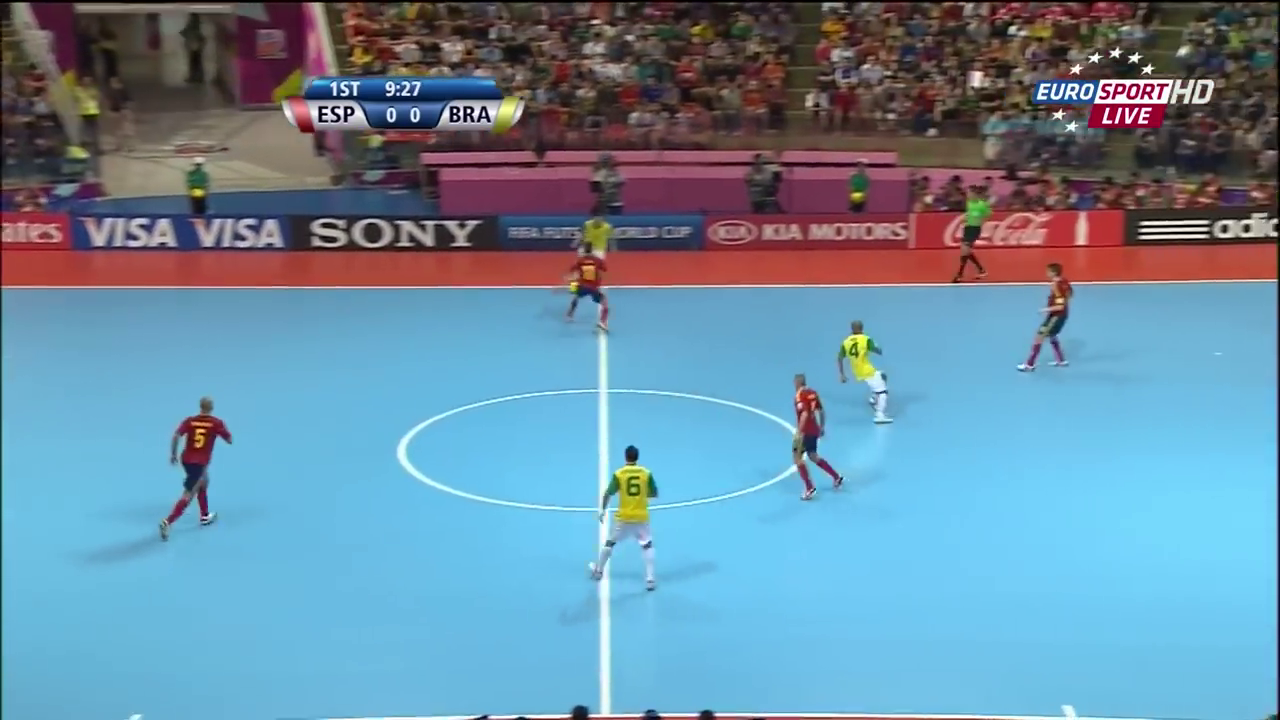person: (588, 444, 671, 594), (155, 401, 230, 534), (777, 370, 847, 501), (1016, 258, 1072, 373), (833, 315, 893, 422), (564, 239, 620, 337), (579, 211, 610, 260)
